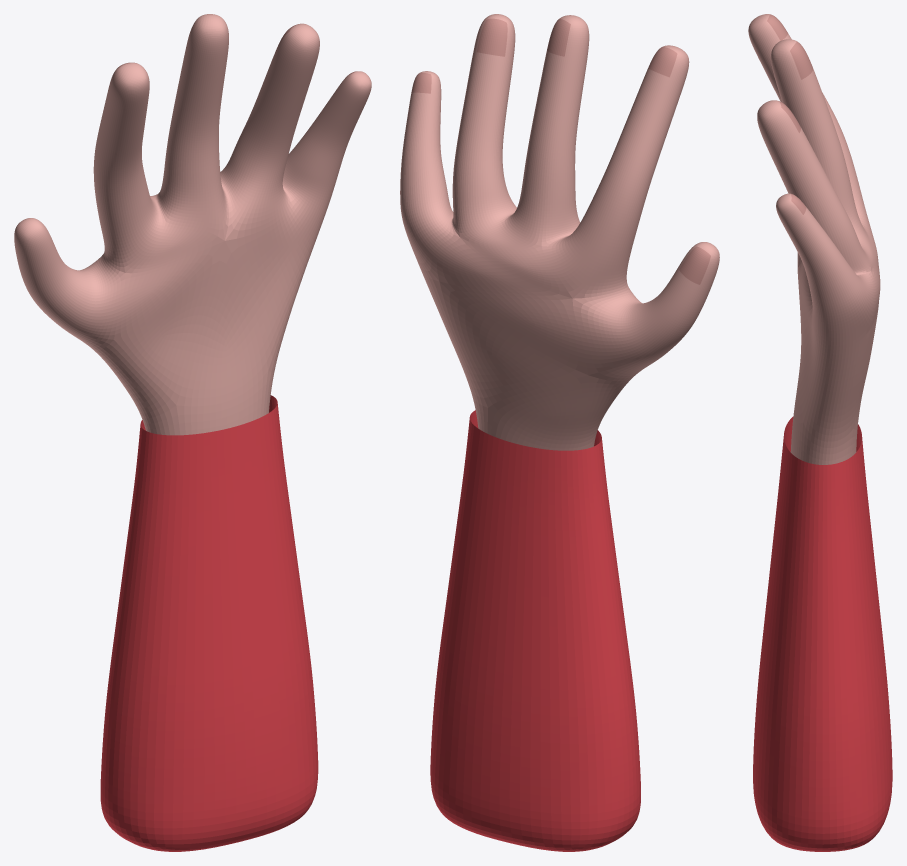
File: coin_chaser_handsR1.fbx
3 views of the same model, side by side, from view 1: azimuth 30°, elevation 25°; view 2: azimuth 150°, elevation 25°; view 3: azimuth 270°, elevation 25° (orthographic). The views are drawn at different scales.
Parts seen in each view (by area): view 1: Cube.008; view 2: Cube.008; view 3: Cube.008.
Part boxes in pixels (x1=…): Cube.008: x1=14, y1=14, x2=371, y2=851; Cube.008: x1=400, y1=14, x2=719, y2=851; Cube.008: x1=748, y1=14, x2=892, y2=851.
Size of the model in its own units: 771 by 1839 by 310.
